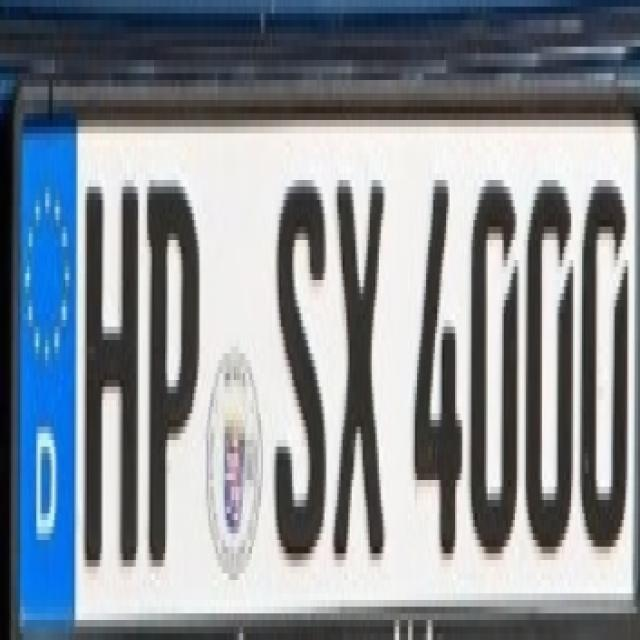0: (468, 157, 524, 574), (578, 177, 634, 560), (526, 174, 576, 573)
4: (408, 162, 466, 570)
H: (81, 163, 143, 586)
P: (144, 165, 200, 577)
S: (270, 159, 328, 572)
X: (332, 158, 389, 580)
